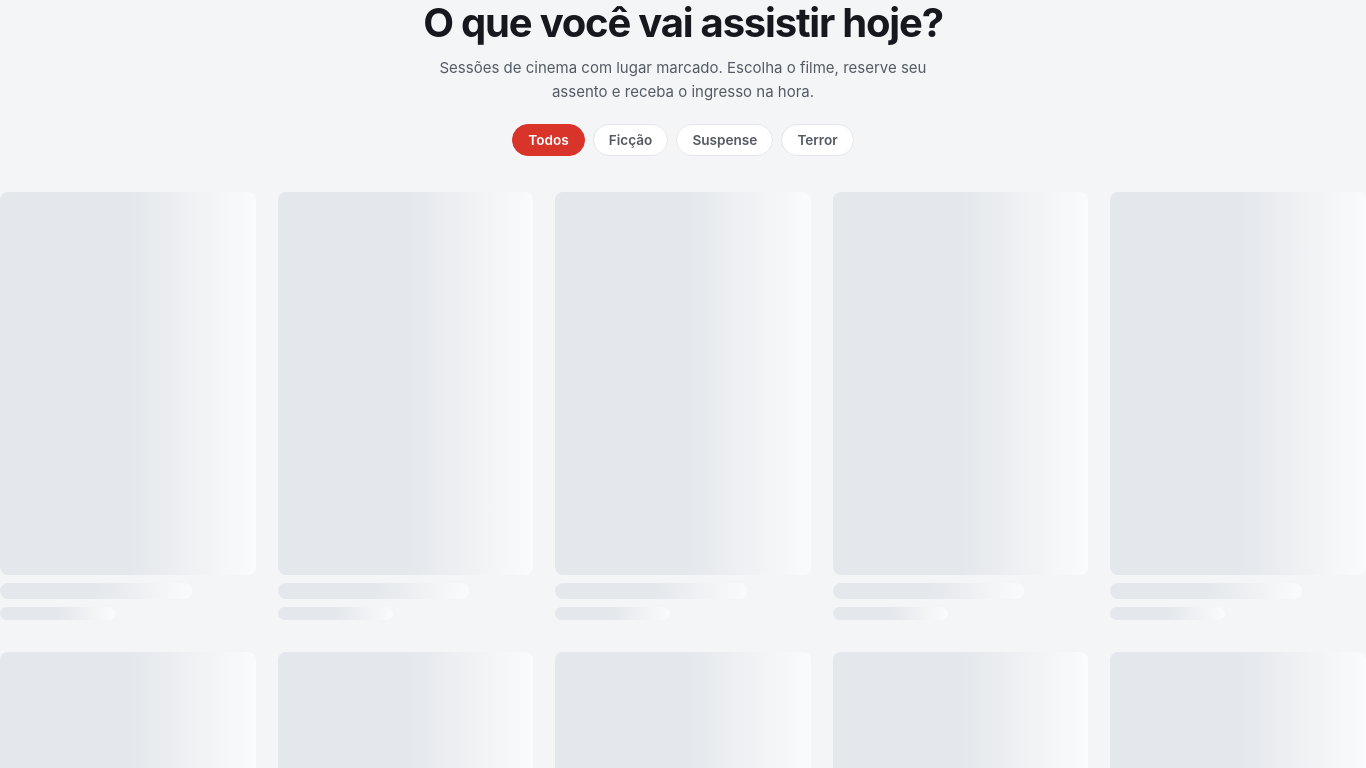
Vitrine › trocar de gênero volta para a primeira página
The image size is (1366, 768).
What coordinates should you click on to do the following:
click the button "Terror"
I would click on:
 (818, 140)
Its box is [781,124,854,156].
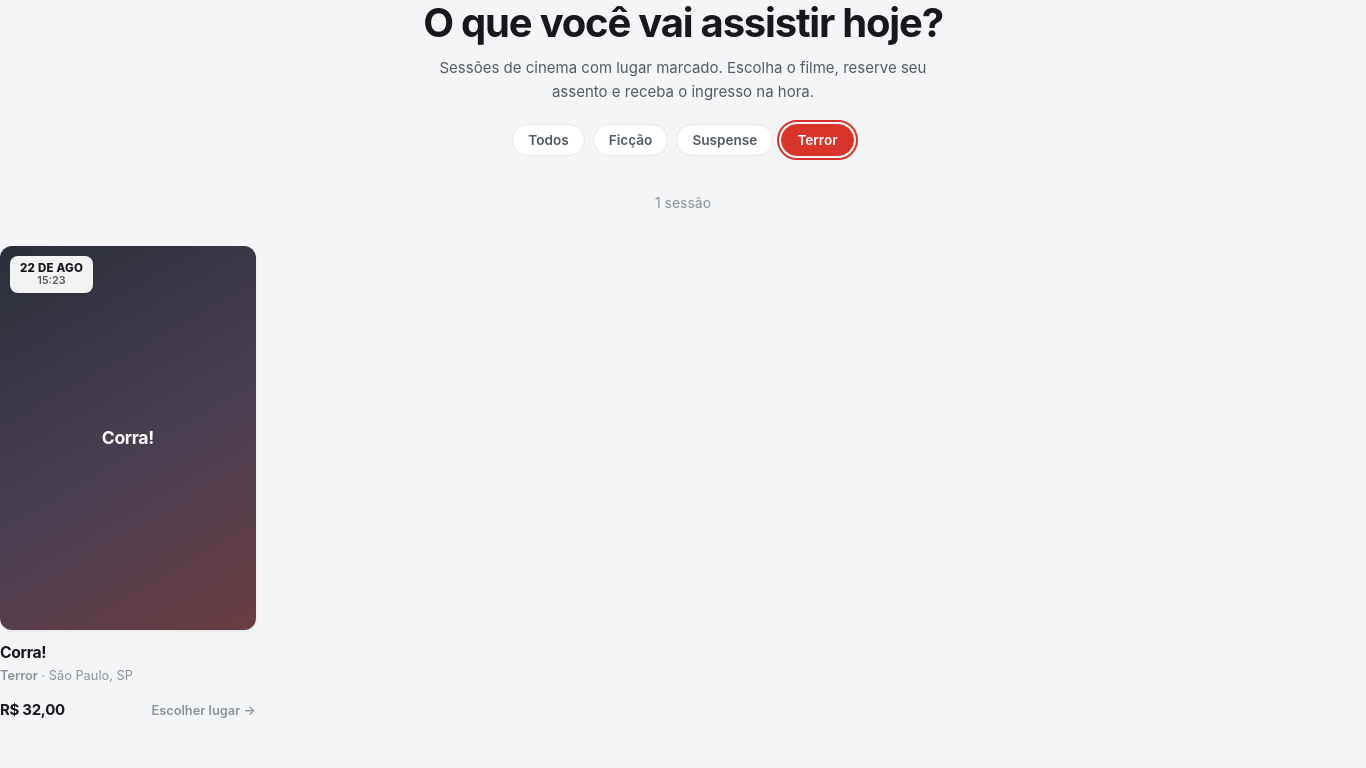
Now the heading "Corra!" is shown, box [0,643,46,662]
